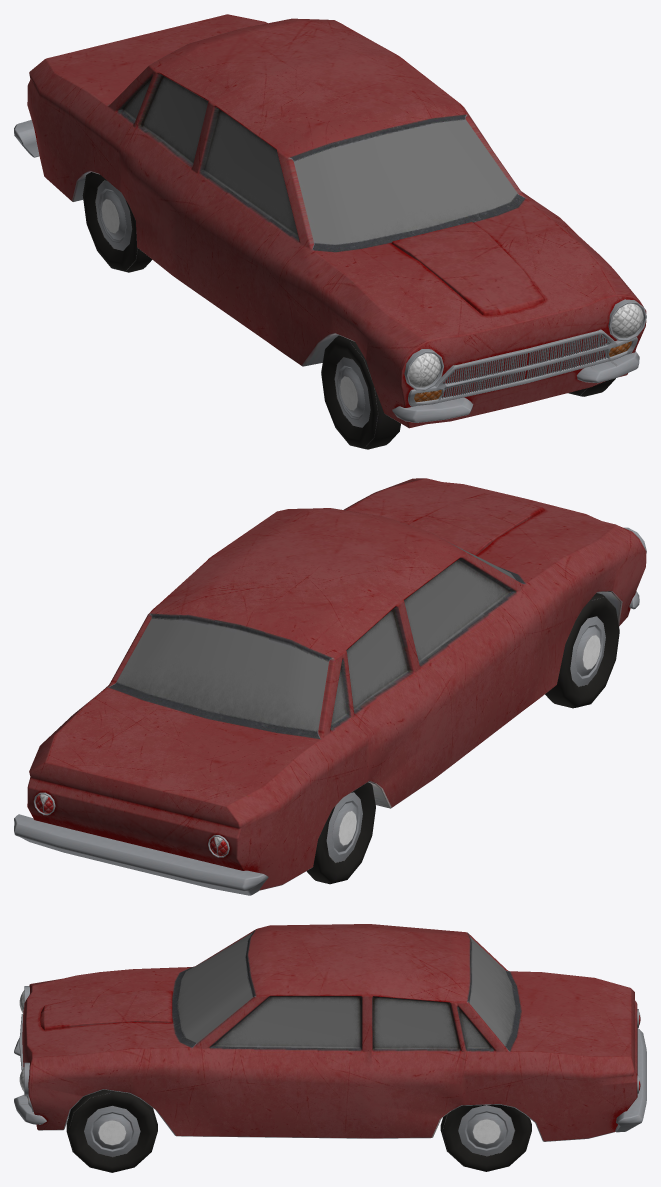
Rendered from Low_Poly_Car_eecae712.glb.
3 views of the same model, one above another, from view 1: azimuth 30°, elevation 25°; view 2: azimuth 150°, elevation 25°; view 3: azimuth 270°, elevation 25° (orthographic). The views are drawn at different scales.
Visible parts, largest first — view 1: defaultMaterial; view 2: defaultMaterial; view 3: defaultMaterial.
Part boxes in pixels (bbox=[...]): defaultMaterial: bbox=[14, 14, 646, 449]; defaultMaterial: bbox=[14, 478, 646, 895]; defaultMaterial: bbox=[14, 924, 646, 1172].
Bounding box in the file's own units: 329 × 274 × 874.
Materials: 1 (1 with a texture image).
